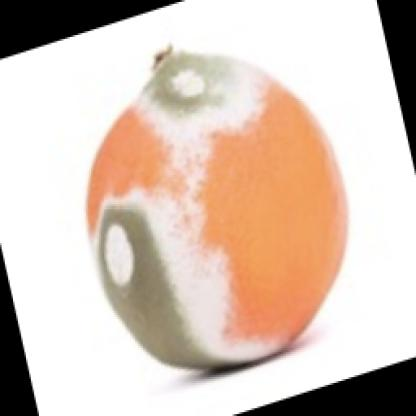rotten_orange: (76, 44, 352, 376)
